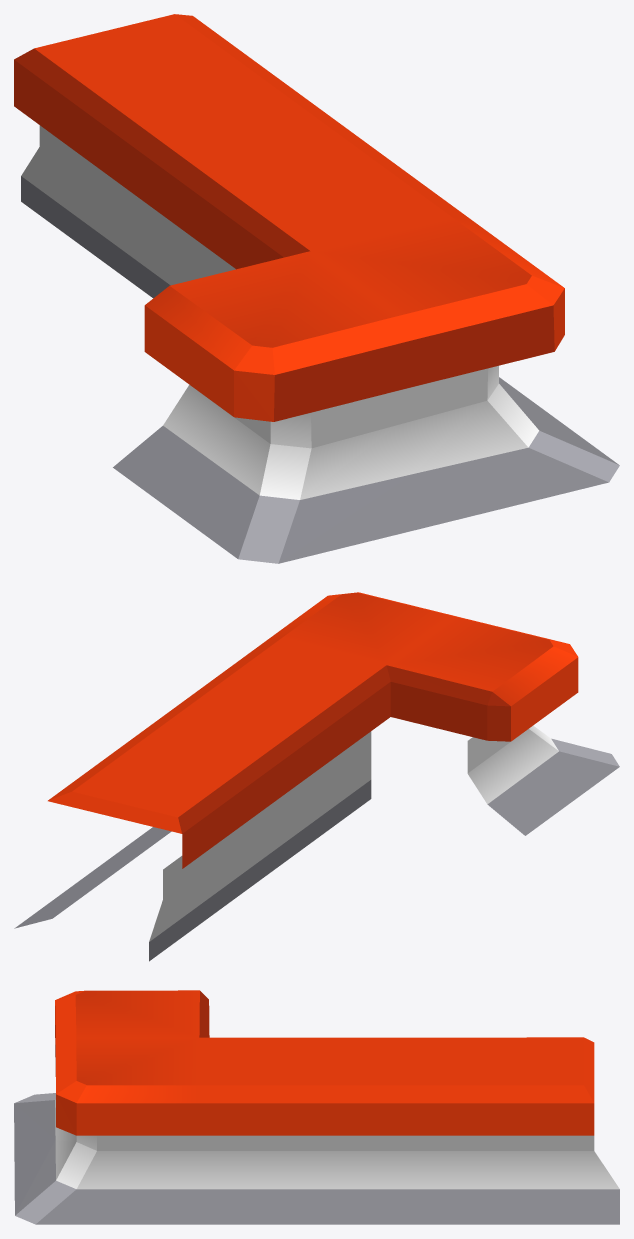
The picture shows the model from 3 angles, top to bottom: view 1: azimuth 30°, elevation 25°; view 2: azimuth 150°, elevation 25°; view 3: azimuth 270°, elevation 25°; orthographic projection. The views are drawn at different scales.
Size of the model in its own units: 1.87 by 0.8193 by 3.69.
3 materials, 3 textured.
